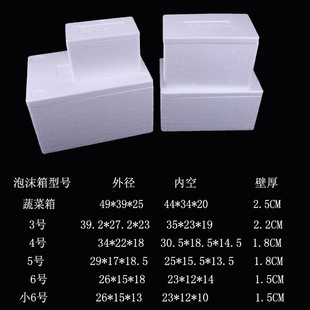Boxes: (26, 17, 153, 154), (160, 14, 263, 131)
